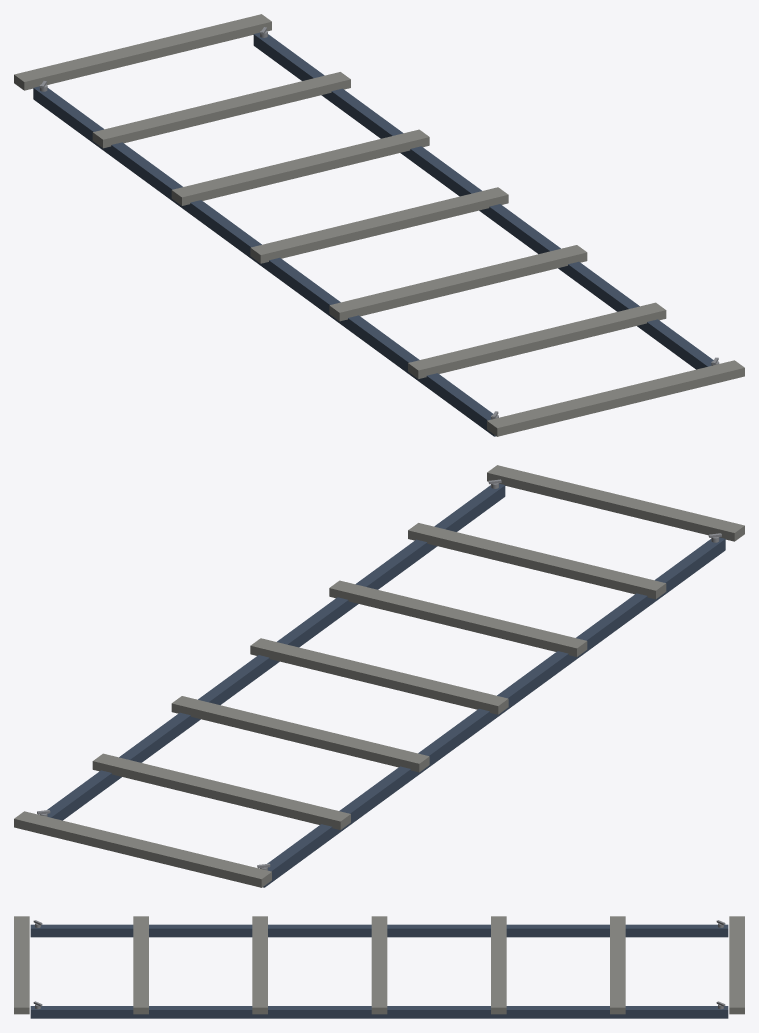
Rendered from kc1000_mounts.obj.
The picture shows the model from 3 angles, top to bottom: view 1: azimuth 30°, elevation 25°; view 2: azimuth 150°, elevation 25°; view 3: azimuth 270°, elevation 25°; orthographic projection. The views are drawn at different scales.
Parts seen in each view (by area): view 1: kc1000_mounts; view 2: kc1000_mounts; view 3: kc1000_mounts.
Boxes of the visible parts, x1=… form: kc1000_mounts: x1=14, y1=14, x2=744, y2=436; kc1000_mounts: x1=14, y1=465, x2=744, y2=887; kc1000_mounts: x1=14, y1=916, x2=744, y2=1018.
Size of the model in its own units: 3.6 by 0.26 by 12.16.
